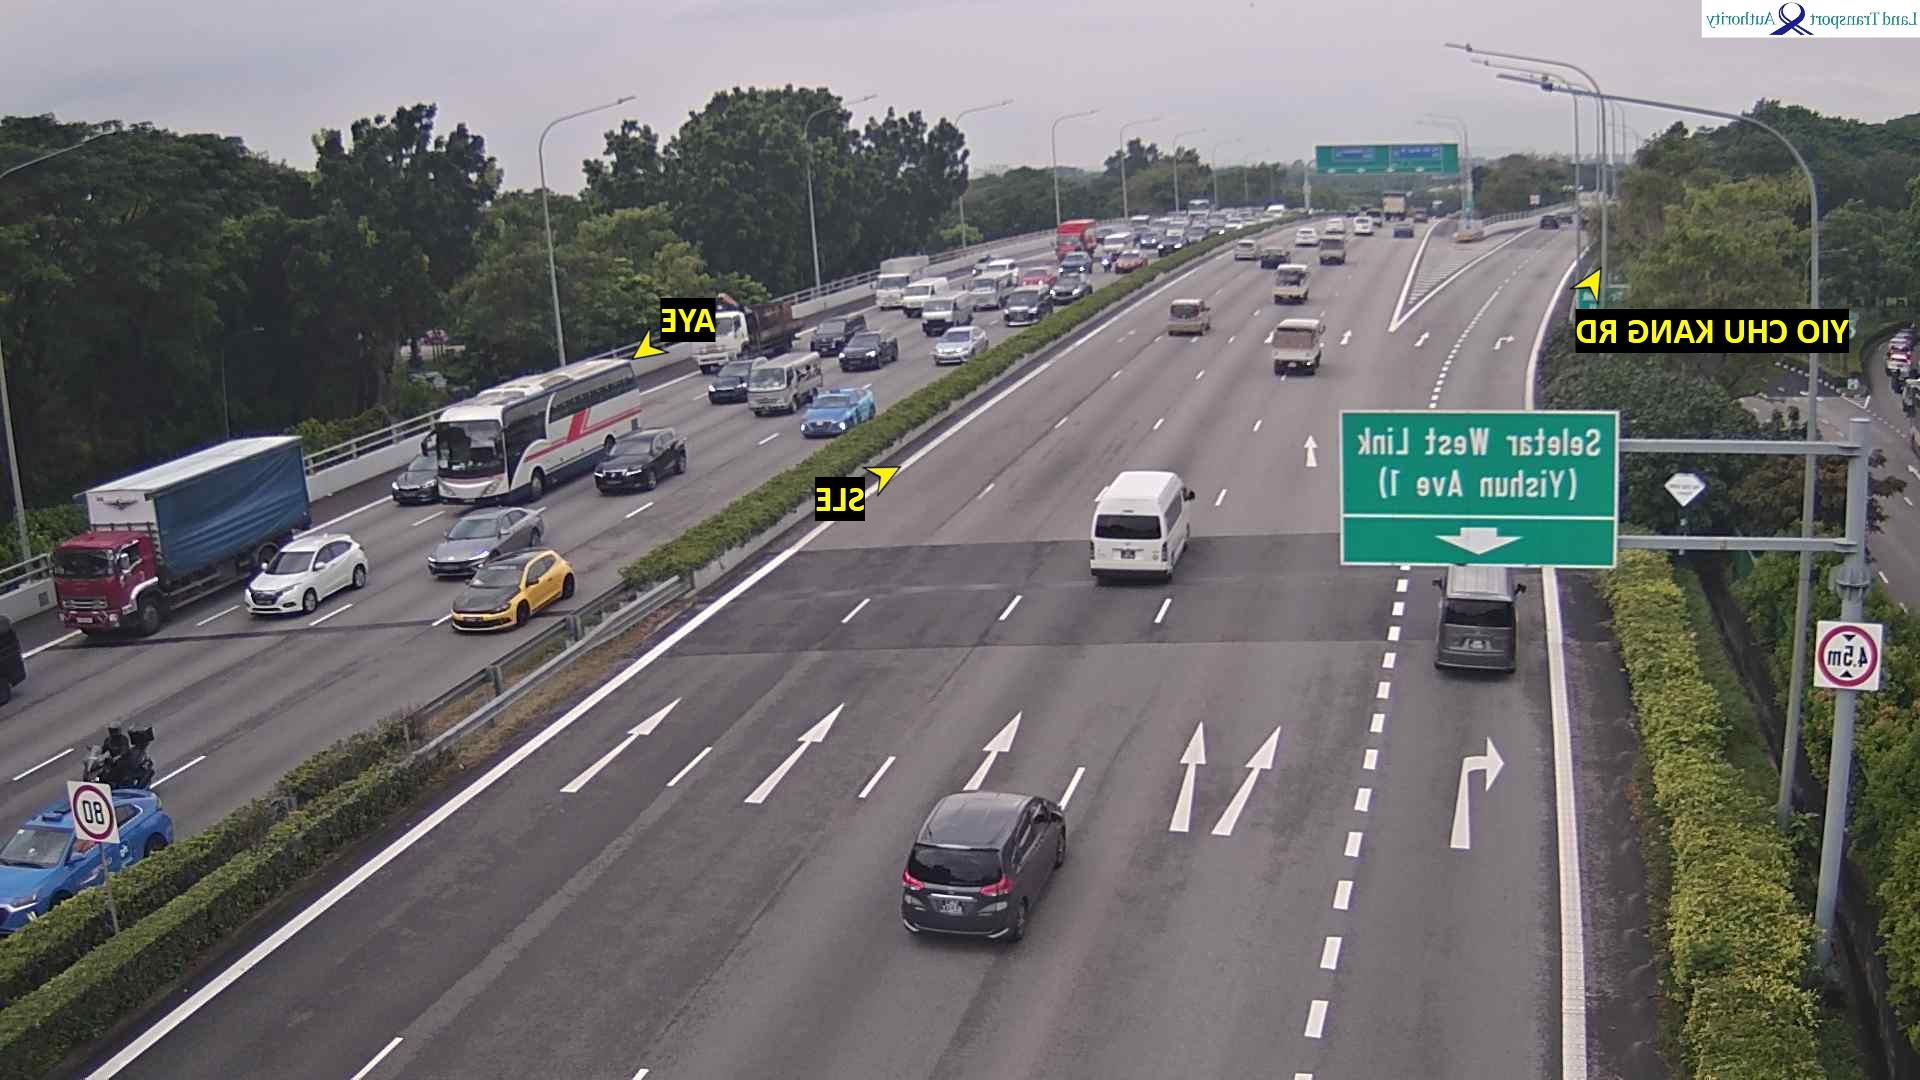cars: (900, 789, 1069, 942), (1, 786, 175, 934), (1089, 469, 1197, 582), (451, 545, 577, 633), (244, 530, 371, 617), (1433, 562, 1528, 673), (427, 503, 548, 578), (594, 426, 689, 494), (747, 349, 825, 416), (801, 383, 877, 438), (1272, 314, 1328, 375), (708, 355, 768, 404), (810, 310, 869, 355), (839, 328, 900, 371), (391, 453, 441, 504), (898, 273, 953, 319), (1, 613, 28, 704), (922, 290, 976, 335), (933, 323, 989, 365), (961, 271, 1017, 311), (1003, 286, 1053, 325), (1168, 297, 1213, 335), (1273, 262, 1311, 303), (1885, 327, 1916, 375), (1051, 271, 1093, 303), (1017, 265, 1060, 291), (1110, 248, 1148, 277), (1057, 249, 1094, 277), (1254, 245, 1293, 271), (987, 257, 1023, 282), (1102, 230, 1134, 256), (1154, 235, 1188, 259), (969, 252, 997, 278), (1320, 238, 1347, 264), (1292, 226, 1320, 250), (1126, 215, 1151, 239), (1235, 237, 1261, 260), (1351, 215, 1375, 238), (1536, 213, 1562, 233), (1322, 216, 1346, 237), (1390, 221, 1415, 240), (1364, 207, 1385, 229), (1183, 227, 1210, 244), (1164, 221, 1190, 238), (1139, 231, 1161, 249), (1411, 207, 1430, 227), (1206, 221, 1227, 239), (1093, 225, 1115, 242), (1149, 216, 1173, 231), (1553, 208, 1574, 225), (1225, 216, 1245, 232), (1266, 203, 1286, 219), (1207, 210, 1226, 226), (1257, 212, 1274, 225), (1242, 216, 1258, 229)
motorcycle: (82, 721, 158, 791), (1100, 250, 1114, 275)
trucks: (53, 432, 314, 638), (426, 356, 645, 506), (688, 291, 808, 378), (868, 253, 932, 313), (1049, 216, 1098, 263), (1382, 188, 1410, 224), (1185, 197, 1210, 221)
